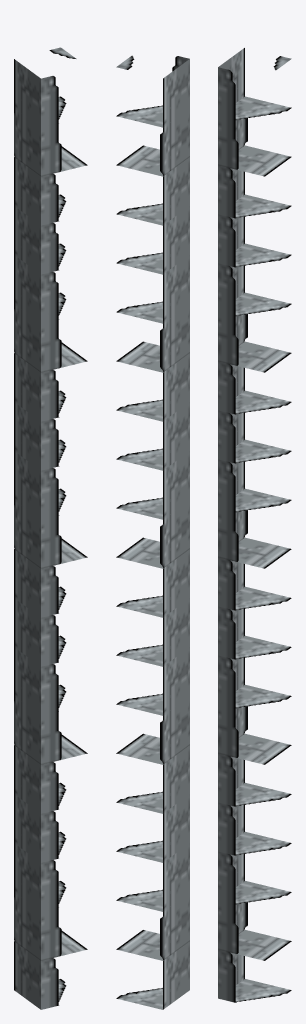
File: kraken_tentacle.fbx
3 renders of one model, left to right at view 1: azimuth 30°, elevation 25°; view 2: azimuth 150°, elevation 25°; view 3: azimuth 330°, elevation 25°, orthographic.
Parts seen in each view (by area): view 1: segment10Cube, segment17Cube, segment14Cube, segment6Cube, segment2Cube, segment11Cube, segment1Cube, segment12Cube, segment15Cube, segment13Cube, segment9Cube, segment8Cube (+7 smaller); view 2: segment17Cube, segment6Cube, segment14Cube, segment10Cube, segment2Cube, segment19Cube, segment17Cube_1, segment16Cube, segment15Cube, segment11Cube, segment9Cube, segment8Cube (+7 smaller); view 3: segment17Cube, segment6Cube, segment14Cube, segment10Cube, segment2Cube, segment19Cube, segment12Cube, segment16Cube, segment11Cube, segment7Cube, segment8Cube, segment15Cube (+7 smaller).
Boxes of the visible parts, x1,y1,x2,y2 form: segment10Cube: (14, 500, 87, 568); segment17Cube: (14, 108, 87, 176); segment14Cube: (14, 304, 87, 372); segment6Cube: (14, 696, 87, 764); segment2Cube: (14, 892, 87, 960); segment11Cube: (14, 451, 66, 519); segment1Cube: (14, 941, 66, 1009); segment12Cube: (14, 402, 66, 470); segment15Cube: (14, 255, 66, 323); segment13Cube: (14, 353, 66, 421); segment9Cube: (14, 549, 66, 617); segment8Cube: (14, 598, 66, 666); segment17Cube: (116, 108, 189, 176); segment6Cube: (116, 696, 189, 764); segment14Cube: (116, 304, 189, 372); segment10Cube: (116, 500, 189, 568); segment2Cube: (116, 892, 189, 960); segment19Cube: (116, 56, 189, 127); segment17Cube_1: (116, 157, 189, 225); segment16Cube: (116, 206, 189, 274); segment15Cube: (116, 255, 189, 323); segment11Cube: (116, 451, 189, 519); segment9Cube: (116, 549, 189, 617); segment8Cube: (116, 598, 189, 666); segment17Cube: (218, 116, 291, 176); segment6Cube: (218, 704, 291, 764); segment14Cube: (218, 312, 291, 372); segment10Cube: (218, 508, 291, 568); segment2Cube: (218, 900, 291, 960); segment19Cube: (218, 48, 291, 120); segment12Cube: (218, 410, 291, 463); segment16Cube: (218, 214, 291, 267); segment11Cube: (218, 459, 291, 512); segment7Cube: (218, 655, 291, 708); segment8Cube: (218, 606, 291, 659); segment15Cube: (218, 263, 291, 316).
Size of the model in its own units: 100 by 2000 by 112.
